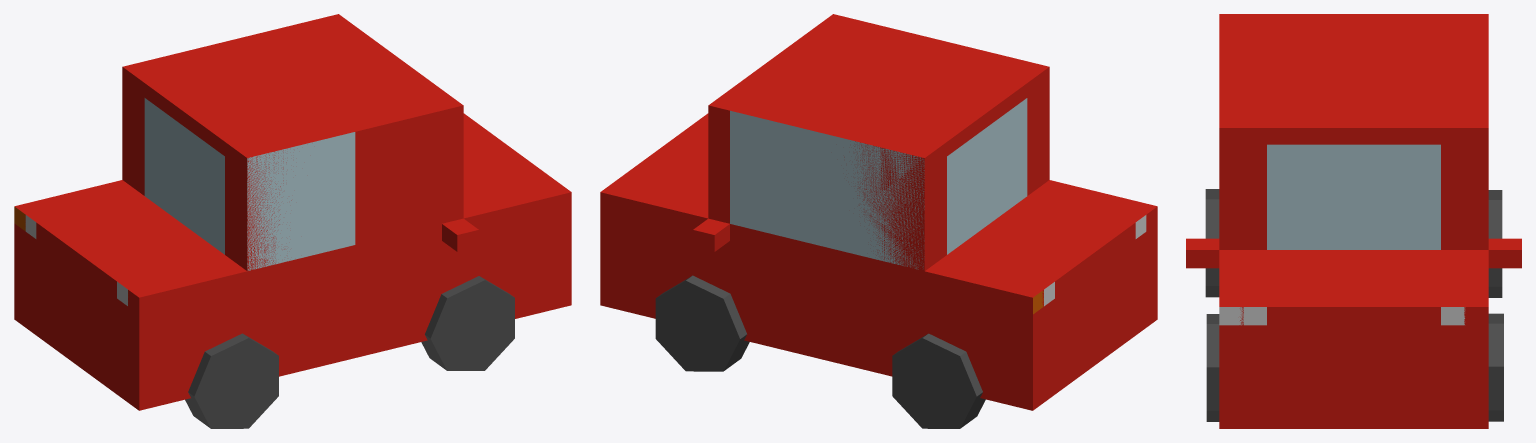
The model's file is block_car.fbx.
The picture shows the model from 3 angles, left to right: view 1: azimuth 30°, elevation 25°; view 2: azimuth 150°, elevation 25°; view 3: azimuth 270°, elevation 25°; orthographic projection. The views are drawn at different scales.
Visible parts, largest first — view 1: car_maincube, rightbacktire, rightfronttire; view 2: car_maincube, leftfronttire, leftbacktire; view 3: car_maincube, leftfronttire, rightfronttire, rightbacktire, leftbacktire.
Part boxes in pixels (box(x1,y1,x2,y2)): car_maincube: box(14, 14, 571, 410); rightbacktire: box(185, 333, 278, 428); rightfronttire: box(421, 276, 514, 370); car_maincube: box(600, 14, 1157, 410); leftfronttire: box(655, 275, 749, 371); leftbacktire: box(892, 333, 985, 428); car_maincube: box(1186, 14, 1521, 428); leftfronttire: box(1488, 313, 1503, 421); rightfronttire: box(1206, 314, 1219, 421); rightbacktire: box(1205, 189, 1219, 297); leftbacktire: box(1488, 190, 1502, 297).
Bounding box in the file's own units: 4 × 2.34 × 2.49.
